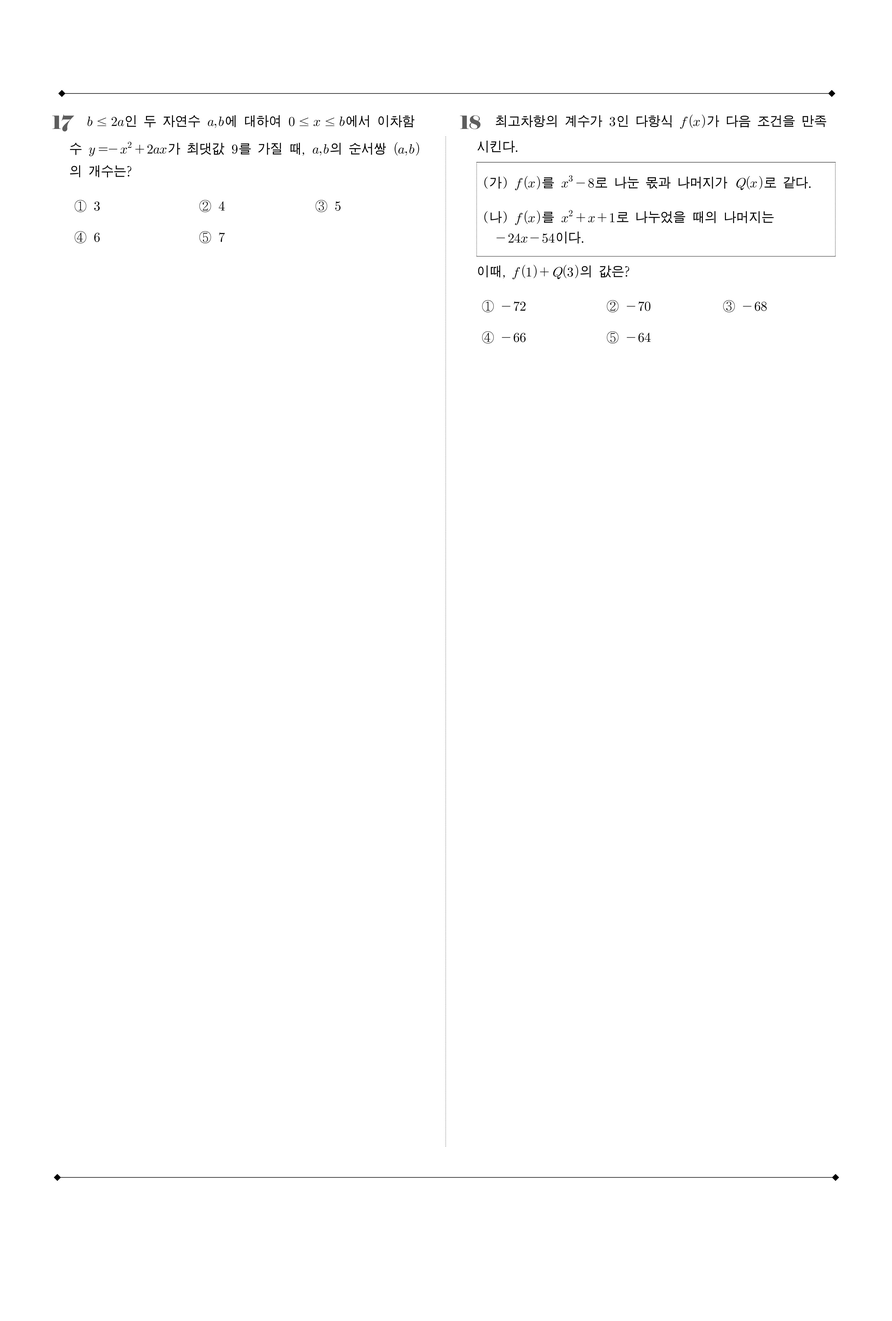problem: (455, 101, 841, 354), (49, 101, 434, 263)
